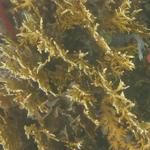alive: (2, 3, 147, 149)
